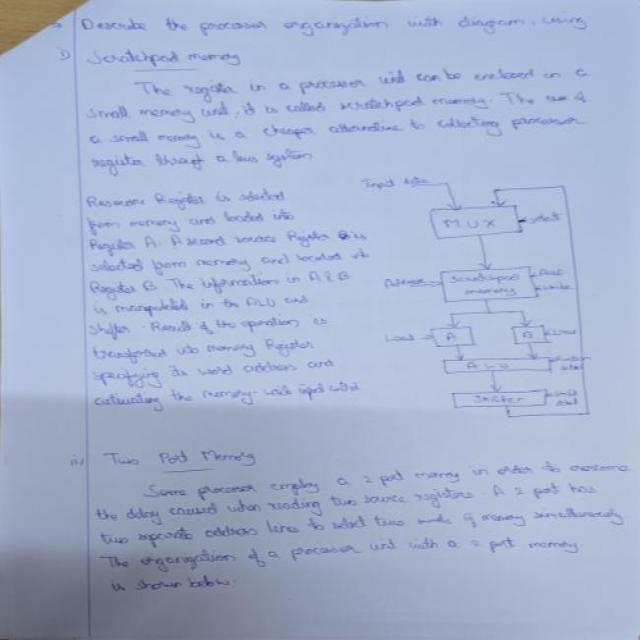Figure Detection - v3 Dataset Version2: (356, 159, 638, 430)
